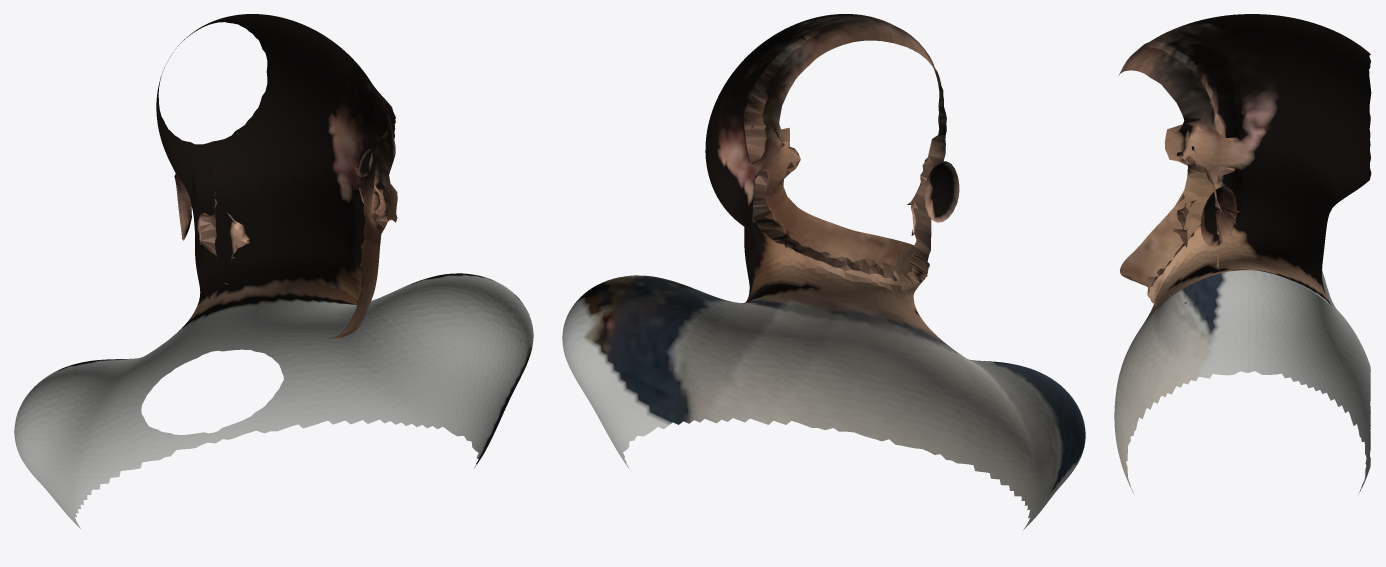
The model's file is head.glb.
The picture shows the model from 3 angles, left to right: view 1: azimuth 30°, elevation 25°; view 2: azimuth 150°, elevation 25°; view 3: azimuth 270°, elevation 25°; orthographic projection. The views are drawn at different scales.
Visible parts, largest first — view 1: Head; view 2: Head; view 3: Head.
Part boxes in pixels (x1,y1,x2,y2): Head: (14, 14, 533, 528); Head: (562, 14, 1085, 529); Head: (1114, 14, 1371, 494).
Bounding box in the file's own units: 0.4889 × 0.4246 × 0.2241.
